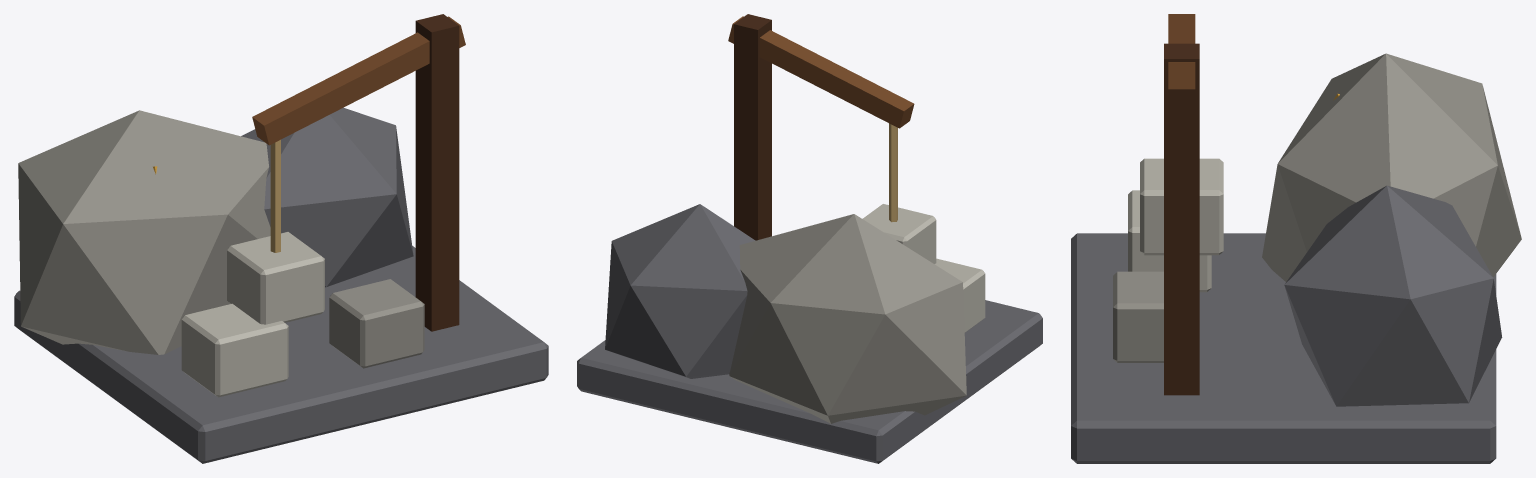
The model's file is quarry.glb.
The picture shows the model from 3 angles, left to right: view 1: azimuth 30°, elevation 25°; view 2: azimuth 150°, elevation 25°; view 3: azimuth 270°, elevation 25°; orthographic projection. The views are drawn at different scales.
Parts seen in each view (by area): view 1: cliff_l, quarry_pad, cliff_r, crane_mast, cut_stone_1, hoist_block, cut_stone_2, crane_arm, crane_rope; view 2: cliff_l, cliff_r, quarry_pad, crane_mast, crane_arm, hoist_block, cut_stone_1, crane_rope; view 3: quarry_pad, cliff_r, cliff_l, crane_mast, hoist_block, cut_stone_2, cut_stone_1, crane_arm.
Boxes of the visible parts, box(x1,y1,x2,y2) form: cliff_l: box(18, 110, 270, 354); quarry_pad: box(14, 246, 548, 463); cliff_r: box(241, 107, 413, 287); crane_mast: box(415, 14, 459, 331); cut_stone_1: box(181, 303, 288, 397); hoist_block: box(227, 232, 324, 324); cut_stone_2: box(329, 279, 424, 368); crane_arm: box(252, 16, 465, 145); crane_rope: box(270, 139, 280, 252); cliff_l: box(729, 214, 966, 423); cliff_r: box(605, 204, 755, 378); quarry_pad: box(577, 300, 1042, 463); crane_mast: box(734, 14, 771, 240); crane_arm: box(728, 16, 914, 128); hoist_block: box(862, 204, 936, 263); cut_stone_1: box(934, 258, 985, 332); crane_rope: box(889, 123, 897, 222); quarry_pad: box(1071, 233, 1496, 463); cliff_r: box(1284, 185, 1502, 406); cliff_l: box(1262, 53, 1521, 281); crane_mast: box(1164, 43, 1199, 395); hoist_block: box(1140, 158, 1223, 255); cut_stone_2: box(1113, 271, 1163, 362); cut_stone_1: box(1128, 190, 1211, 292); crane_arm: box(1168, 14, 1195, 89).
Bounding box in the file's own units: 1.71 × 1.56 × 1.51.
